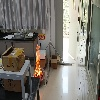fire: (34, 44, 42, 77)
